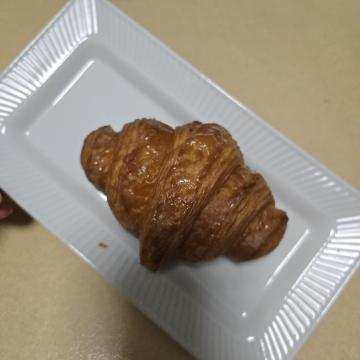croissant: (106, 67, 288, 289)
